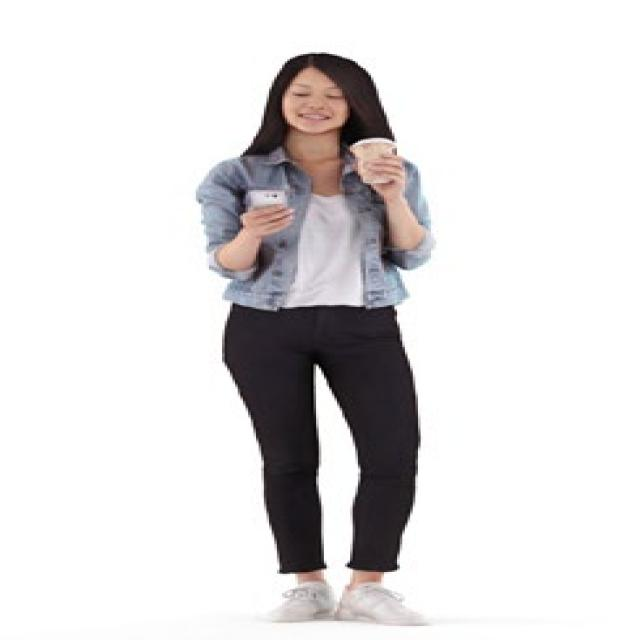standing: (198, 50, 446, 625)
